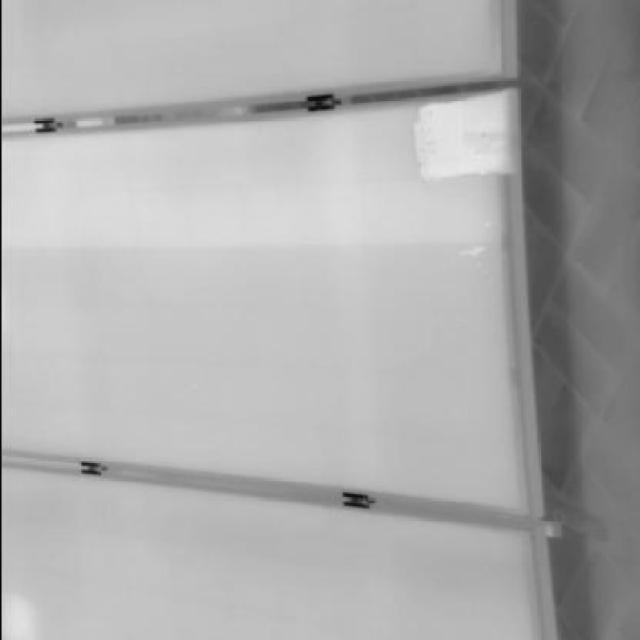hotspot: (408, 90, 521, 187)
